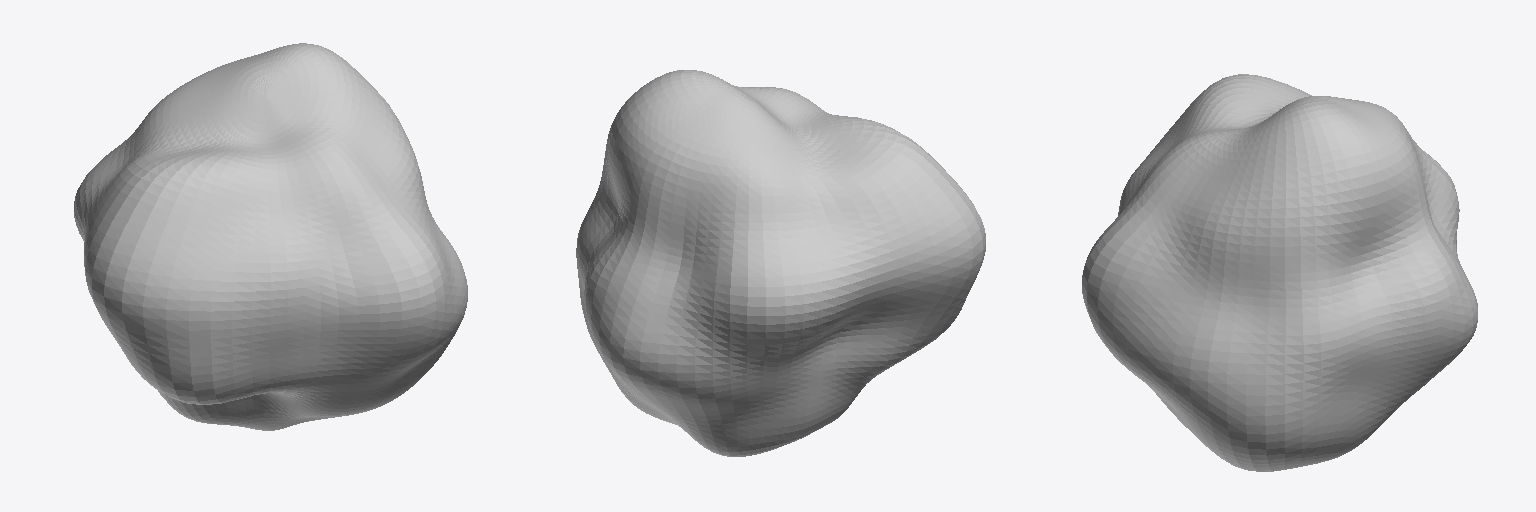
File: asteroidHD.obj
The picture shows the model from 3 angles: view 1: azimuth 30°, elevation 25°; view 2: azimuth 150°, elevation 25°; view 3: azimuth 270°, elevation 25°; orthographic projection.
Bounding box in the file's own units: 1.05 × 0.9764 × 0.9815.